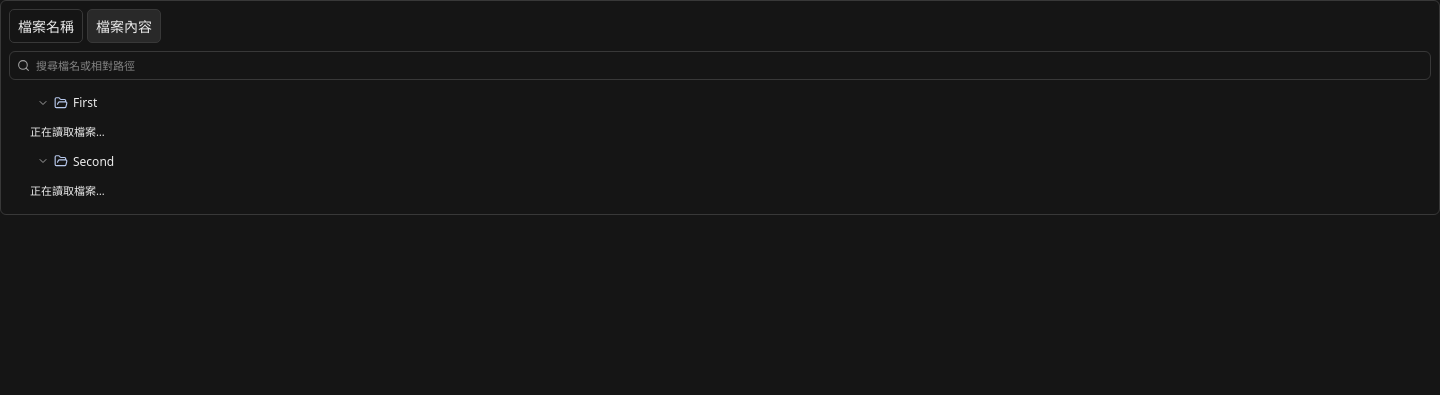
Test: project content search lifecycle › Stop sends the original owner and request ID to a separate cancellation RPC
Step 1. Click the button "檔案內容" → (124, 26), box [87, 9, 161, 43]
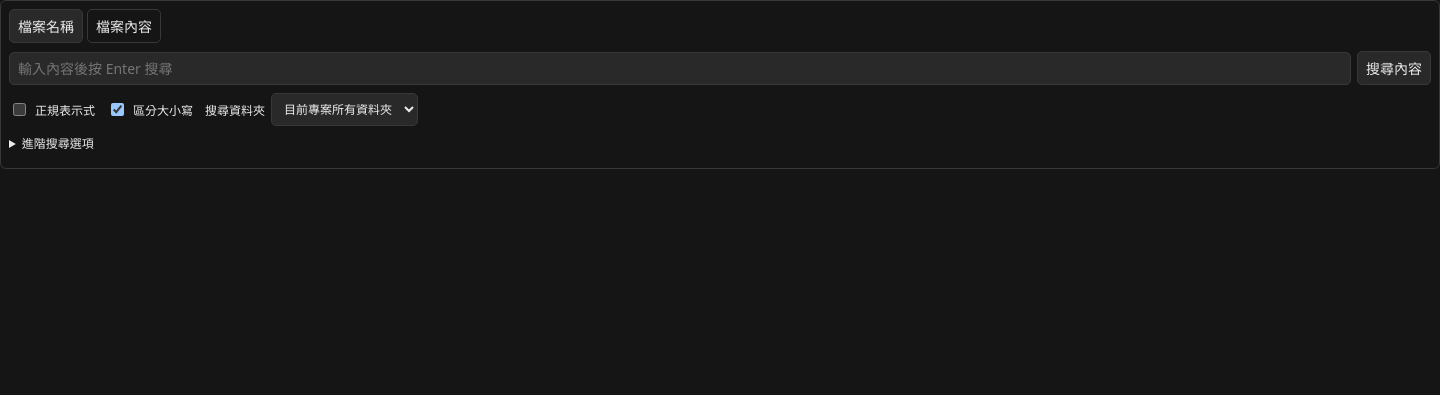
Step 2. Type "needle" into the field named "搜尋專案檔案內容" → (680, 68), box [9, 52, 1351, 84]
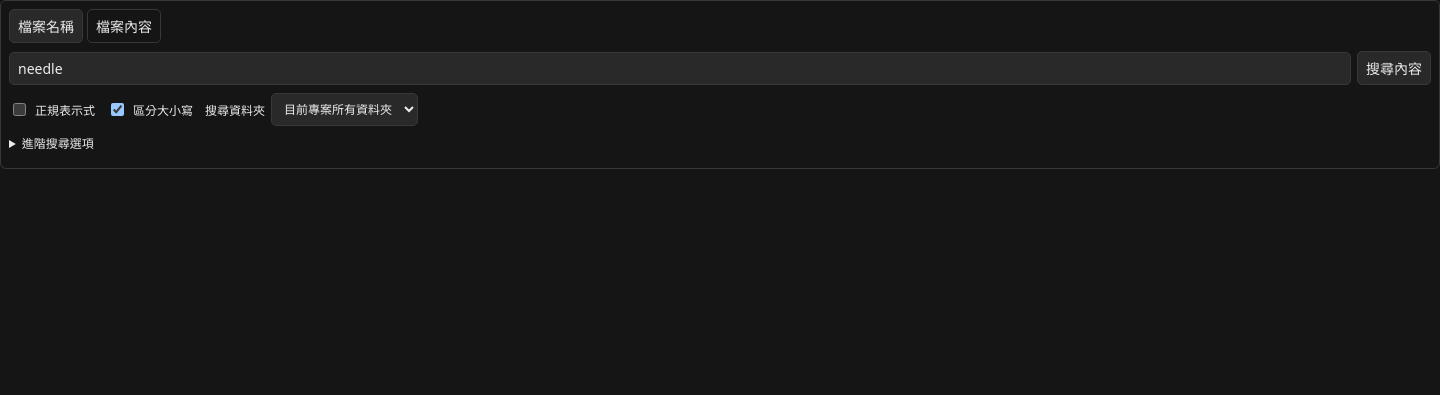
Step 3. Submit the form named "搜尋檔案內容", box [9, 51, 1431, 152]
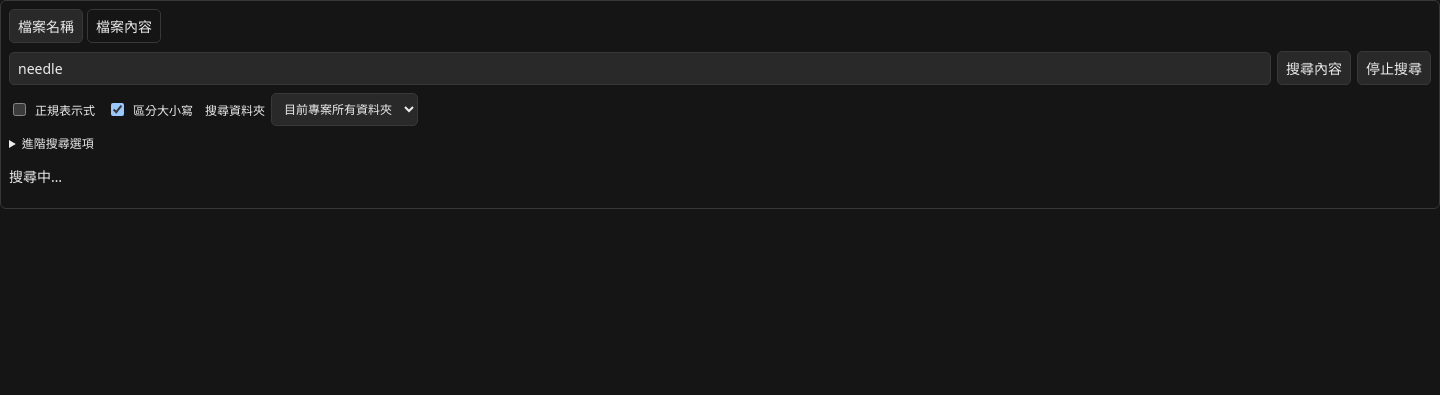
Check: the message shows "搜尋中", box [9, 167, 62, 186]
Step 4. Click the button "停止搜尋" → (1394, 68), box [1357, 51, 1431, 85]
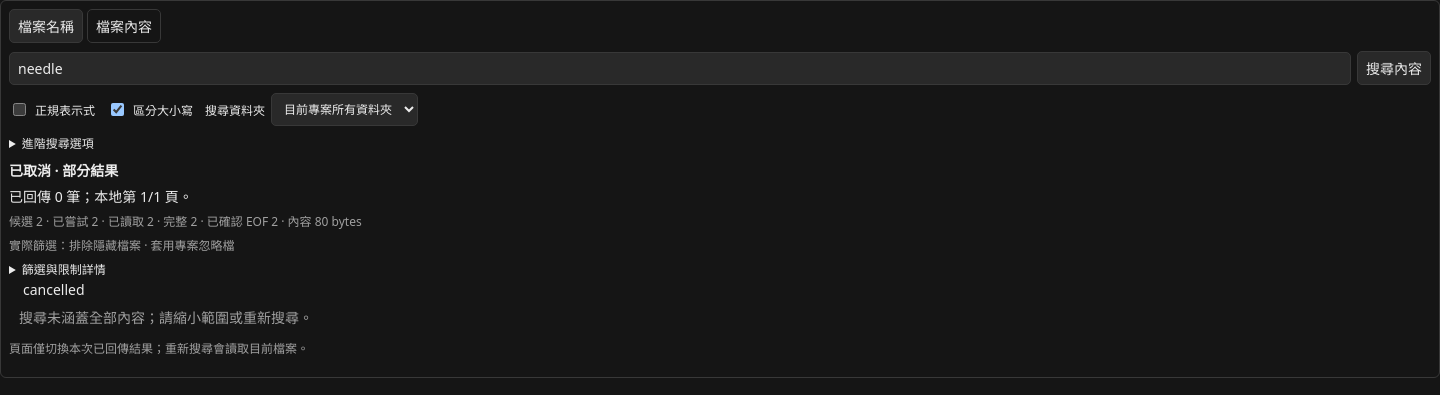
Check: the message named "搜尋結果摘要" shows "已取消", box [9, 161, 51, 180]
